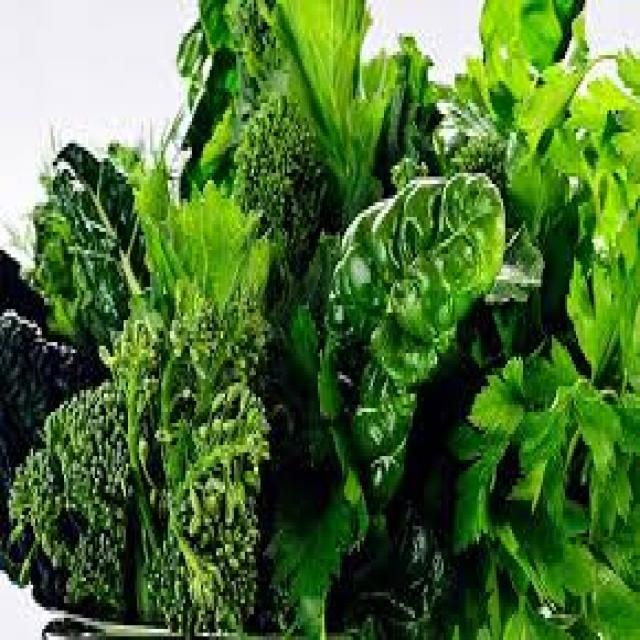organic waste: (448, 44, 638, 636), (265, 169, 505, 636), (194, 0, 430, 232), (137, 276, 269, 636), (2, 313, 146, 622), (0, 246, 110, 617), (7, 125, 154, 357), (461, 0, 638, 162), (108, 136, 269, 309), (223, 92, 324, 291), (174, 4, 260, 195), (430, 74, 506, 176)
